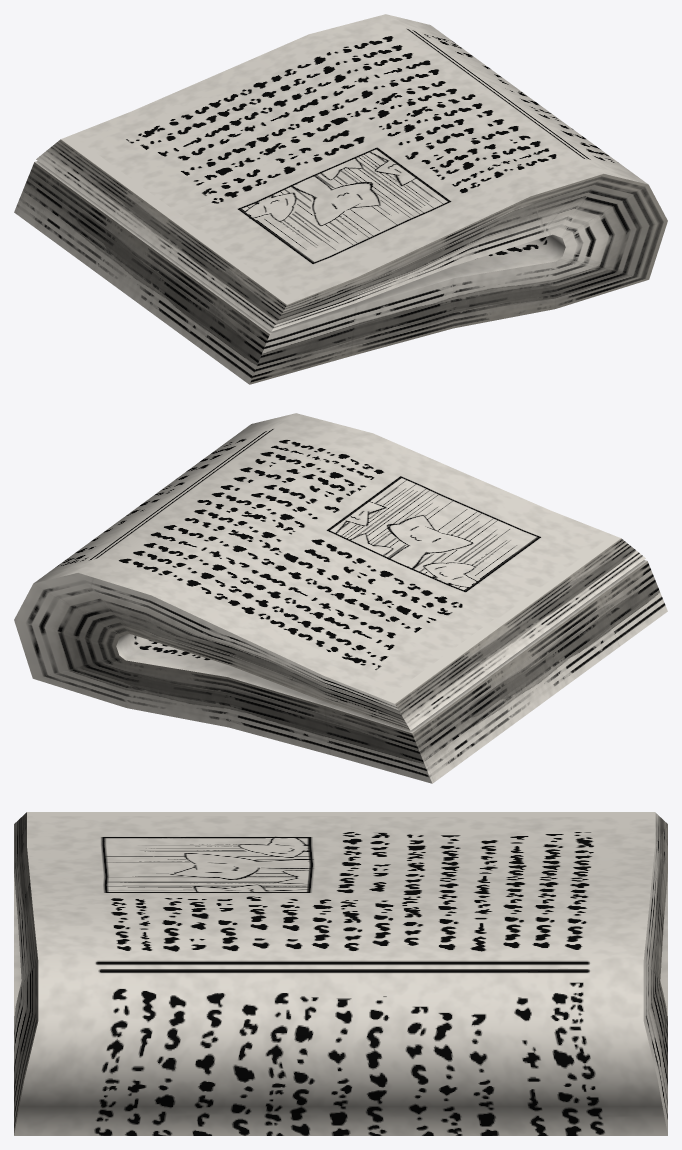
Rendered from Sinbun_1_v1.0.fbx.
3 views of the same model, one above another, from view 1: azimuth 30°, elevation 25°; view 2: azimuth 150°, elevation 25°; view 3: azimuth 270°, elevation 25° (orthographic). The views are drawn at different scales.
Parts seen in each view (by area): view 1: Sinbun; view 2: Sinbun; view 3: Sinbun.
Boxes of the visible parts, x1,y1,x2,y2 form: Sinbun: [14, 14, 667, 384]; Sinbun: [14, 413, 667, 783]; Sinbun: [14, 812, 667, 1135].
Bounding box in the file's own units: 31.04 × 8.16 × 30.
